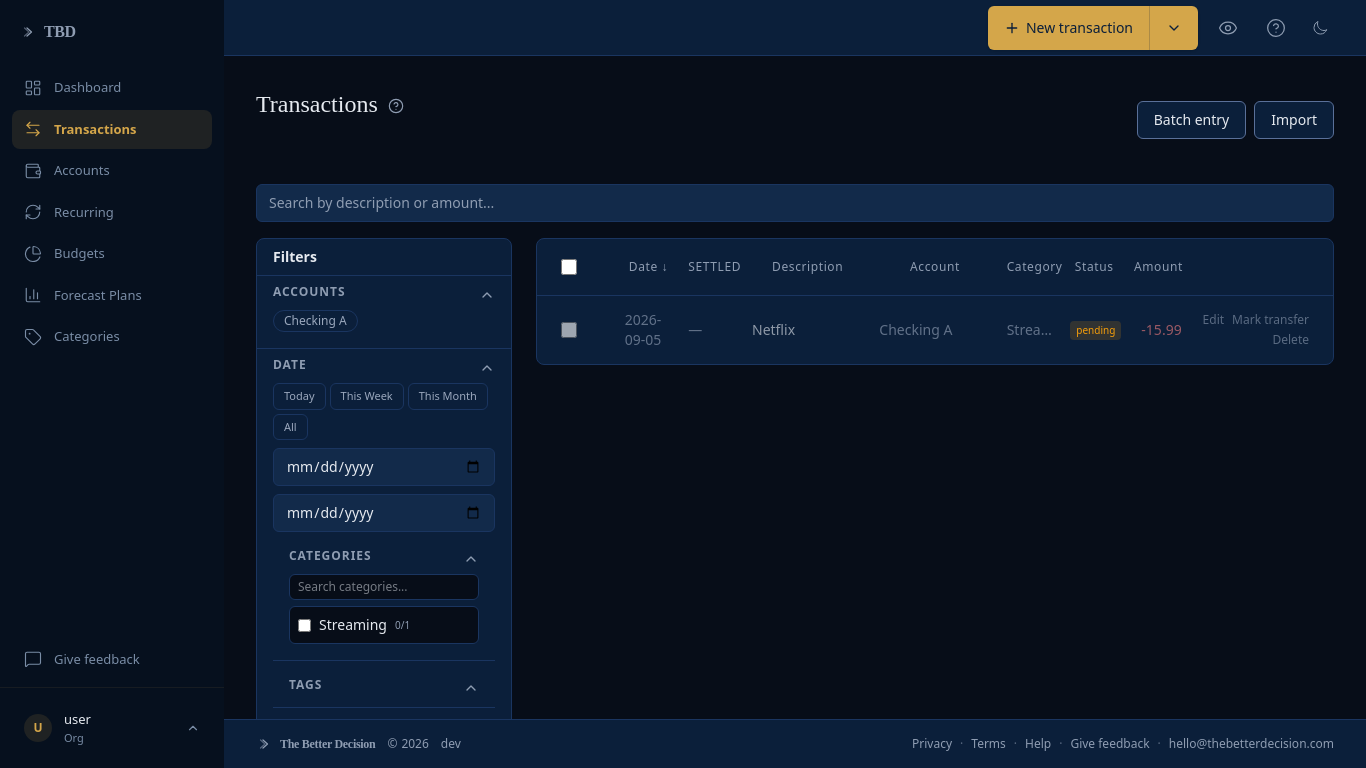
Scenario: transactions page: skip this occurrence (TBD-272) › F9: confirm POSTs skip, closes the form, refetches, and announces it
Click the button with aria-label "Edit:".
click(1213, 320)  # box [1203, 312, 1224, 328]
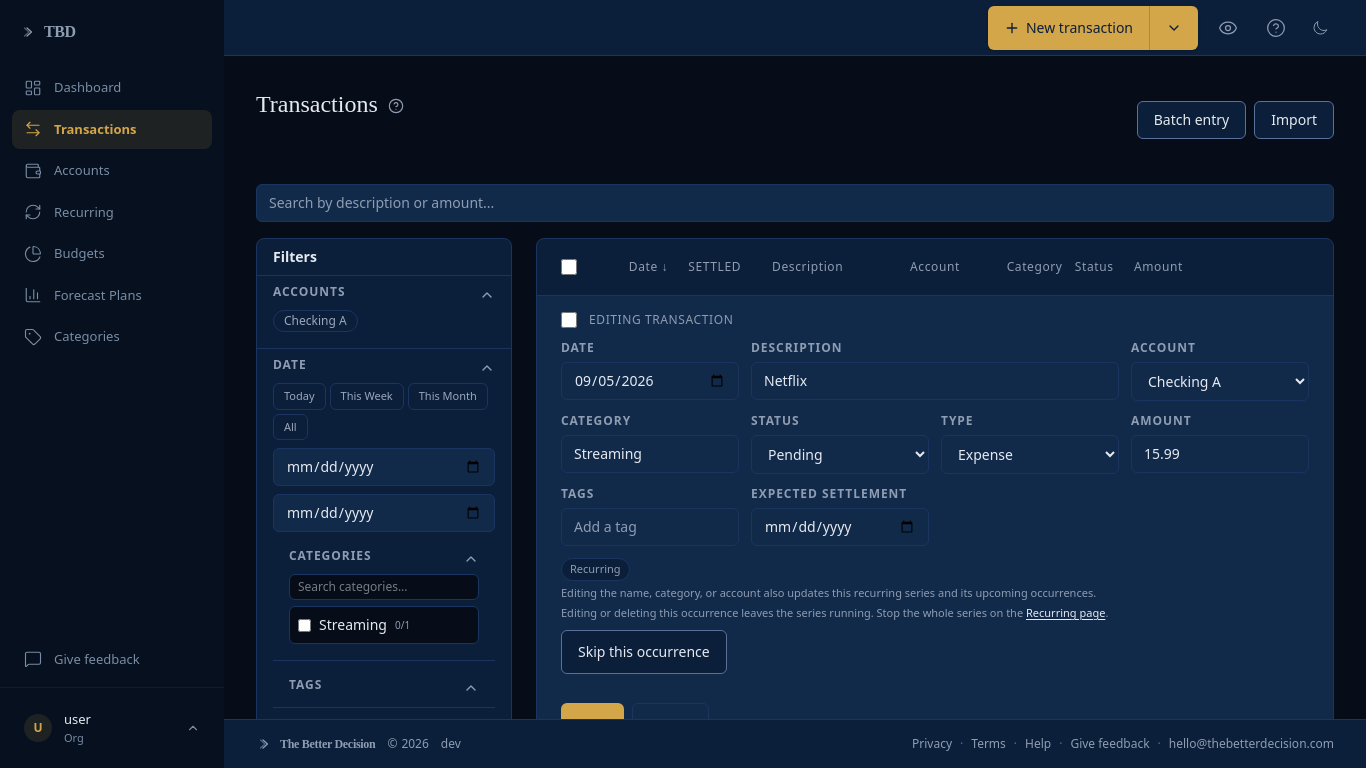
Click the button "Skip this occurrence".
click(644, 652)  # box [561, 630, 727, 674]
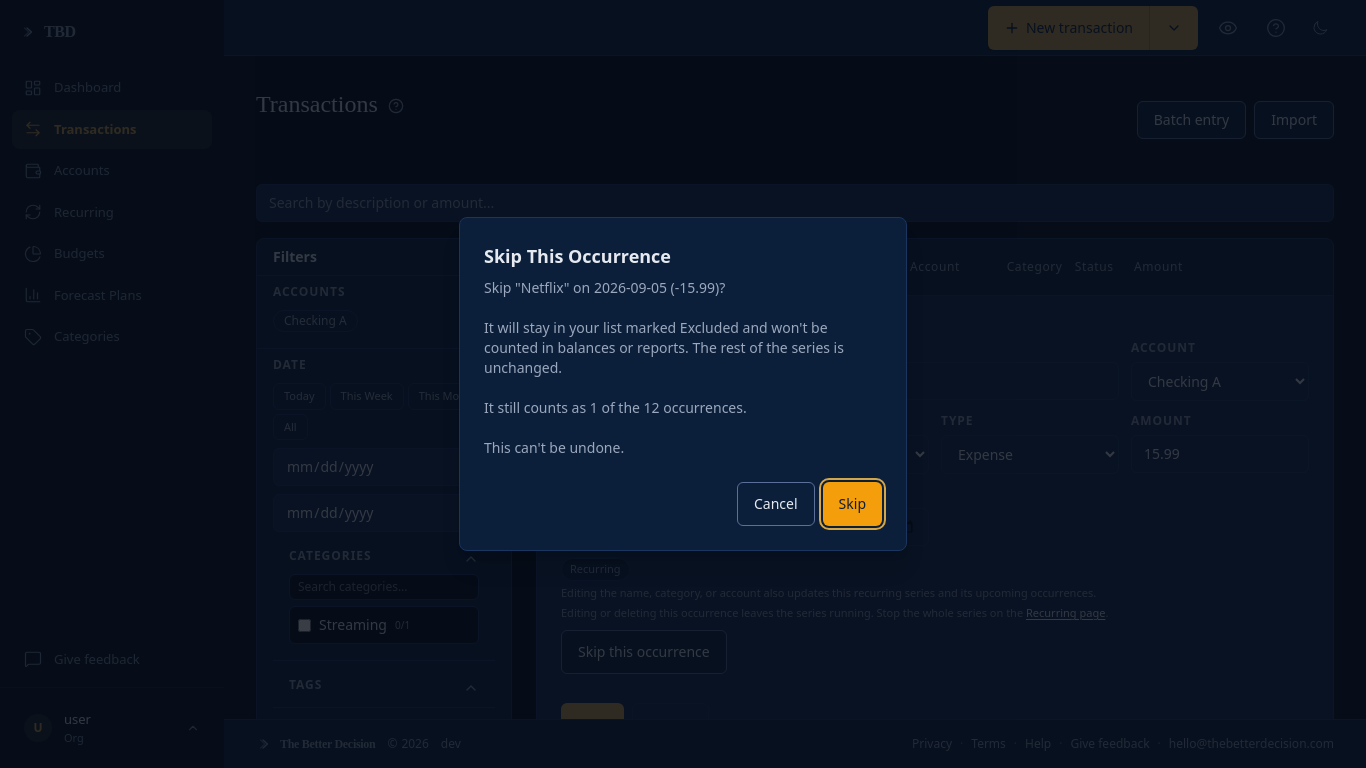
Now the heading "Skip This Occurrence" is shown, box [484, 244, 671, 268]
Now the dialog shows "It still counts as 1 of the 12 occurrences.", box [484, 278, 844, 457]
Now the dialog shows "It will stay in your list marked Excluded and won't be counted in balances or reports.", box [484, 278, 844, 457]
Click the button "Skip".
click(852, 504)  # box [823, 482, 882, 526]
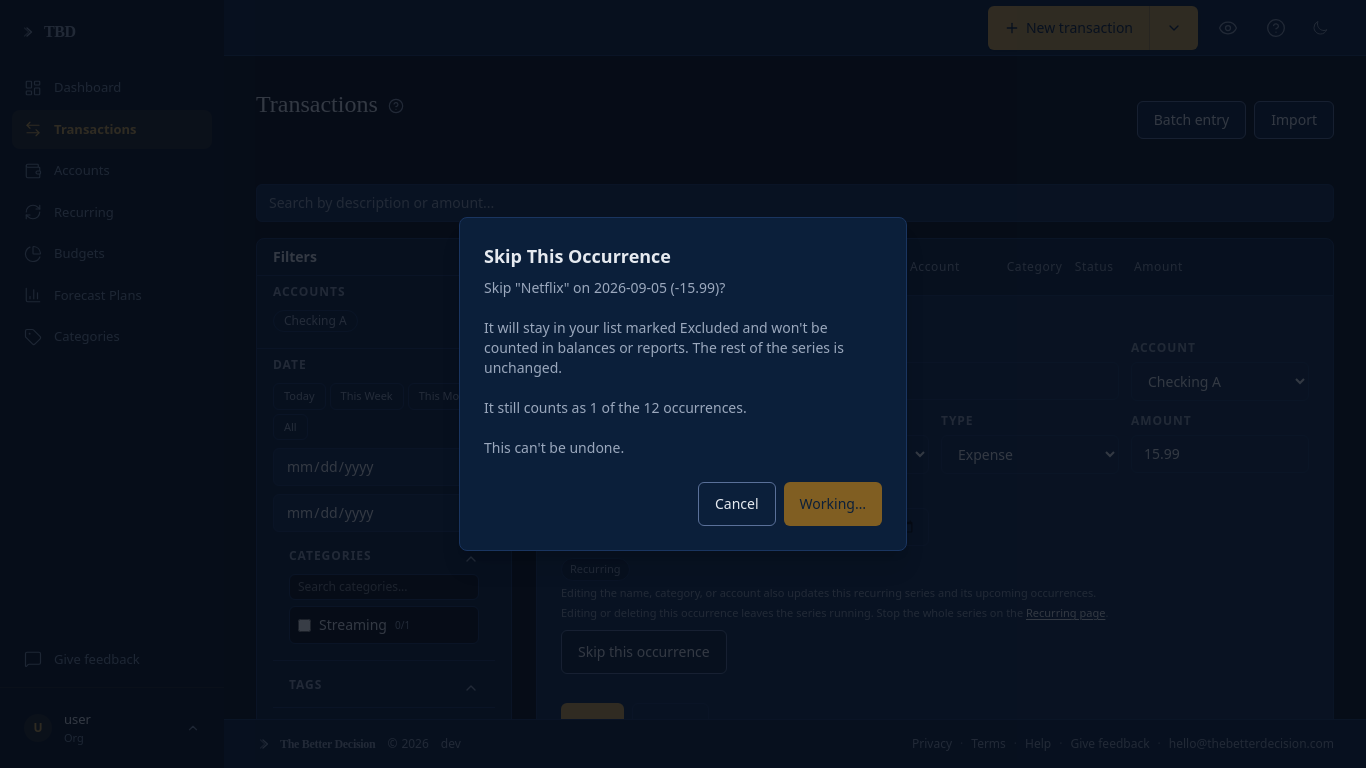
Click the button named "Skip".
click(833, 504)  # box [784, 482, 882, 526]
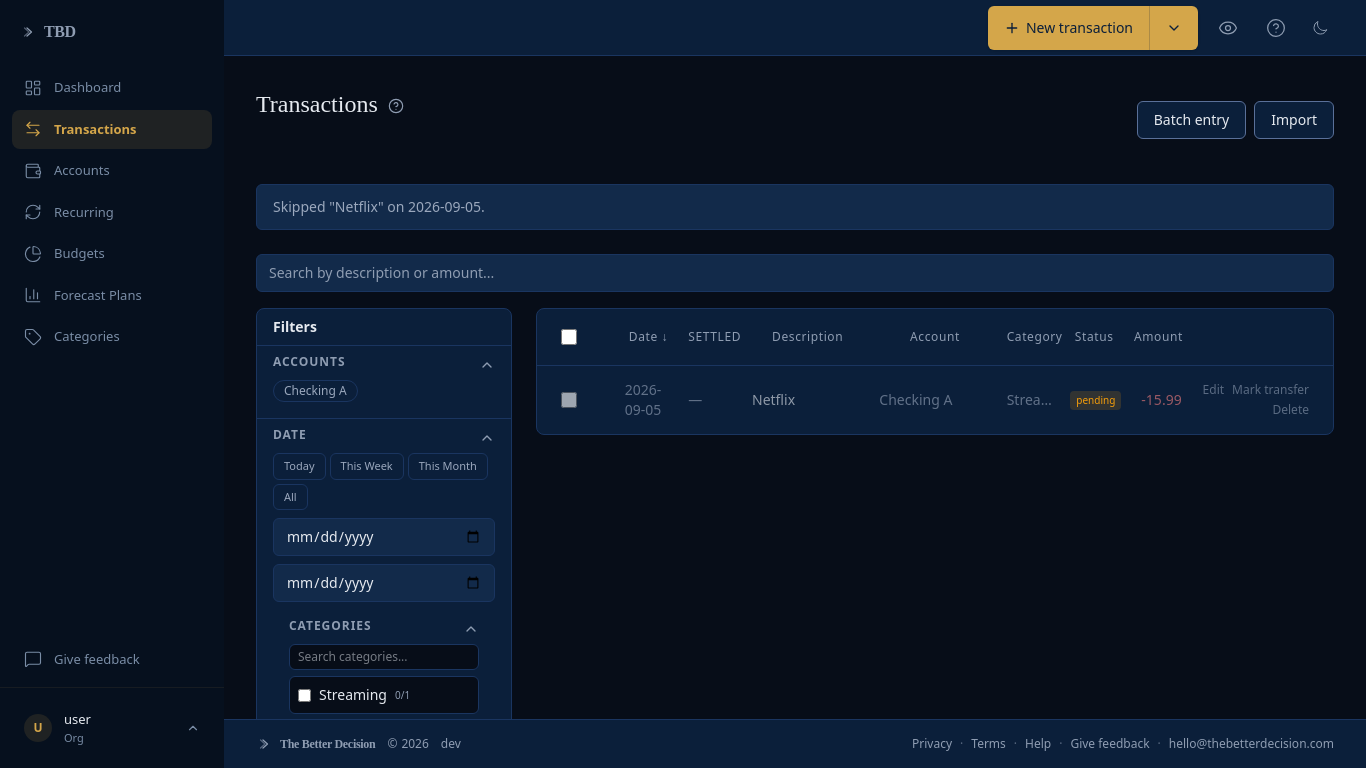
Now the text with test id "transactions-notice" reads "Skipped \"Netflix\" on 2026-09-05.", box [273, 197, 485, 216]
Now the dialog is gone
Now the element with test id "edit-recurring-row-504" is gone
